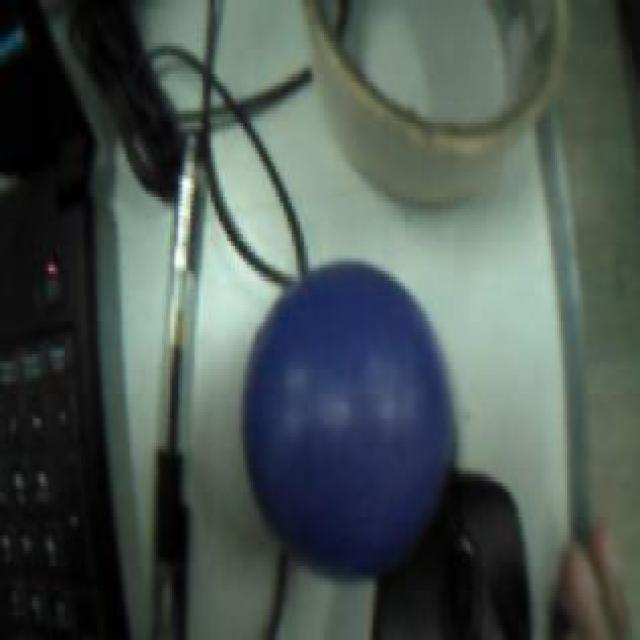BallPurple: (243, 261, 456, 580)
